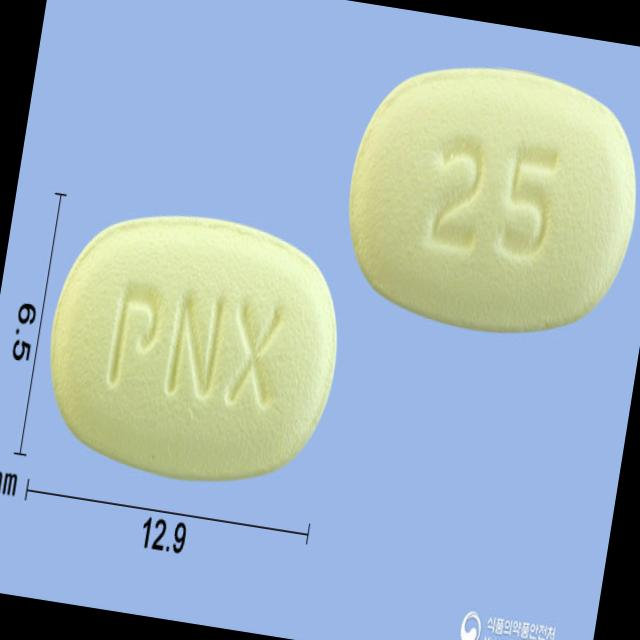Piclo Tab: (33, 198, 354, 496), (331, 47, 640, 353)
